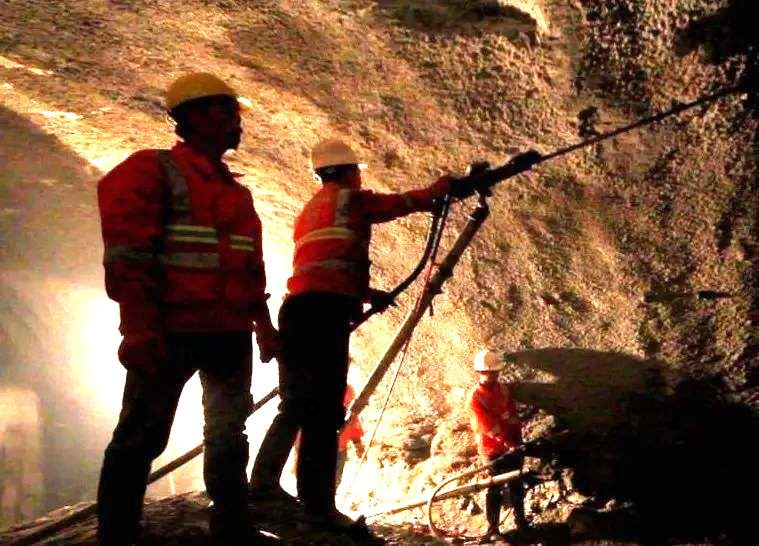helmet: (166, 71, 243, 150), (310, 138, 362, 191), (472, 349, 505, 383)
